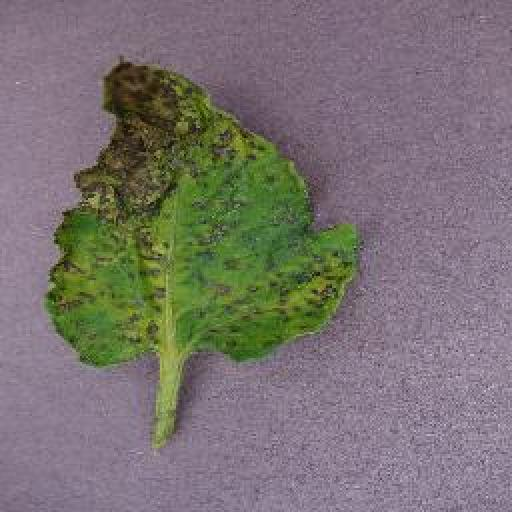disease_tomato: (51, 58, 360, 368)
